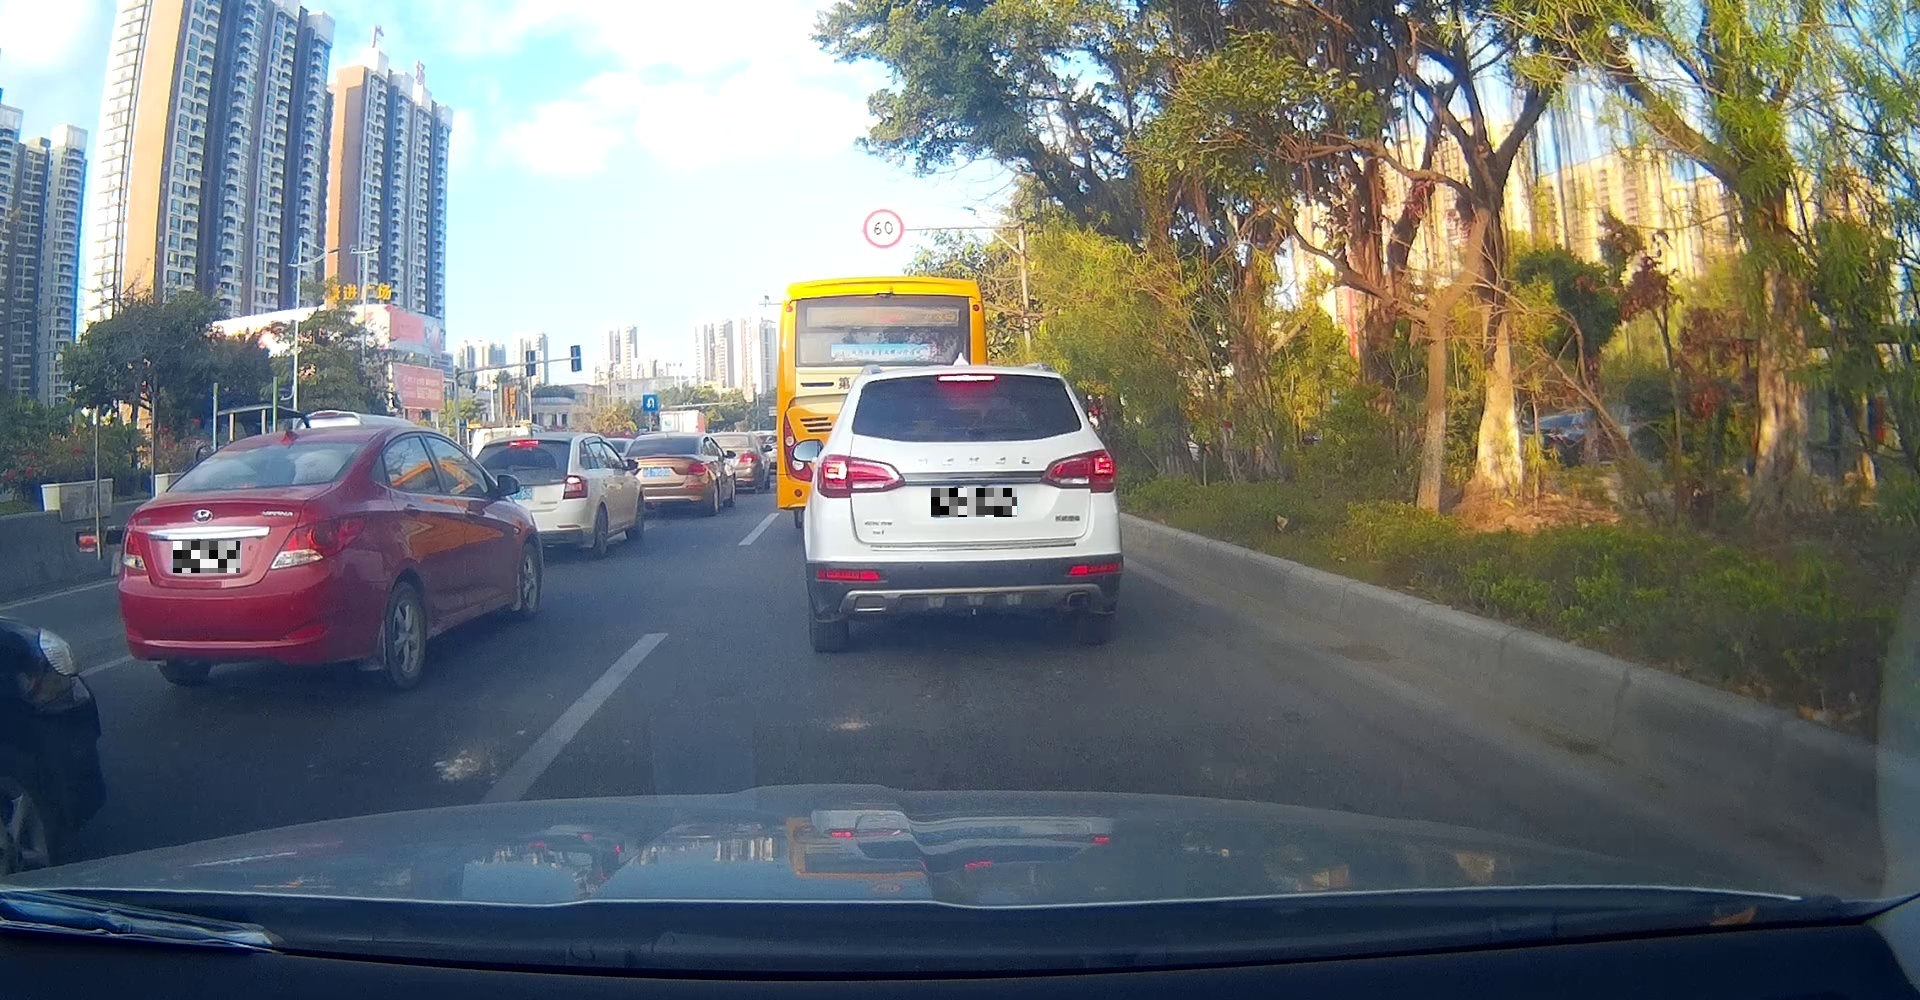L_light: (815, 456, 905, 497), (119, 529, 145, 570)
R_light: (269, 514, 370, 570), (1039, 447, 1116, 492)
T_light: (938, 376, 996, 381), (225, 482, 259, 489)
day-brake: (804, 365, 1123, 652), (118, 424, 370, 687)
plate_1: (173, 541, 240, 574)
plate_2: (931, 489, 1017, 516)
